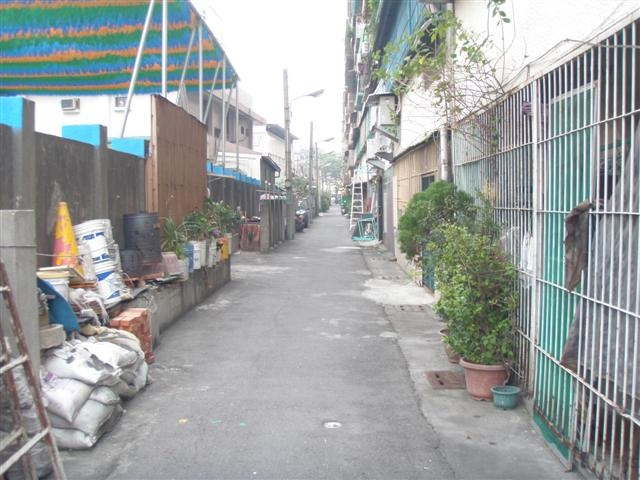bowl: (491, 383, 521, 409)
bucket: (120, 210, 162, 264), (70, 221, 114, 268)
